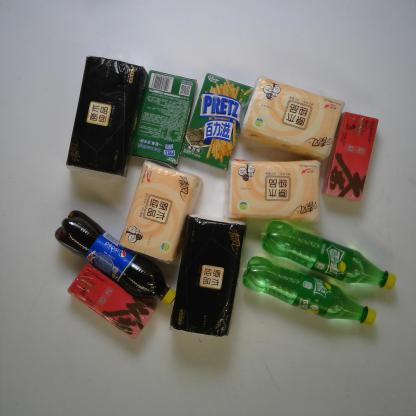Dessert: (181, 62, 254, 169), (125, 65, 198, 166)
Drink: (52, 204, 178, 306), (244, 255, 379, 334), (260, 220, 398, 294)
Instant Drink: (67, 266, 158, 348), (325, 113, 385, 199)
Tissue: (62, 52, 151, 180), (171, 203, 249, 343), (246, 74, 350, 167), (112, 157, 203, 260), (214, 156, 333, 228)
